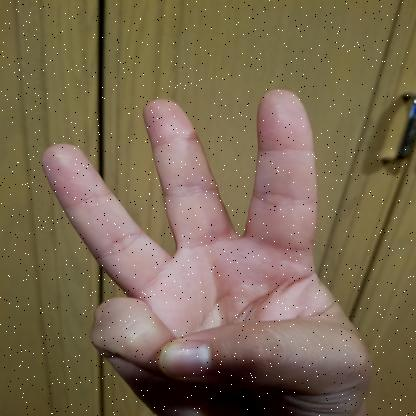W: (41, 89, 374, 416)
